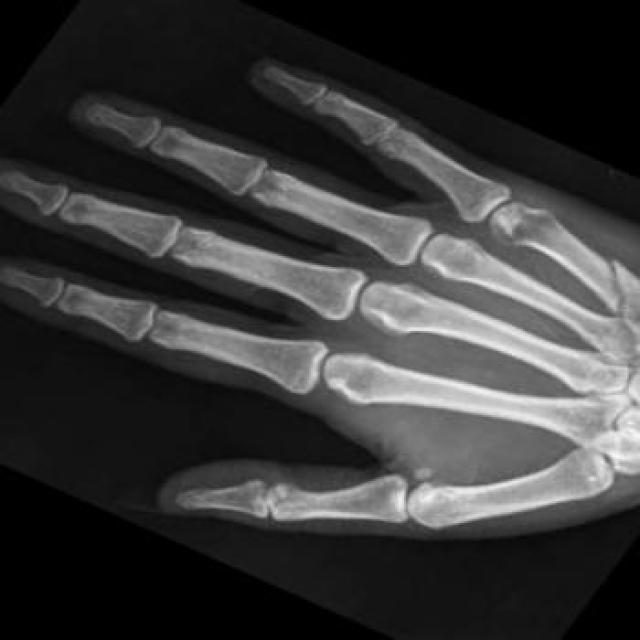Fracture: (600, 255, 640, 317)
